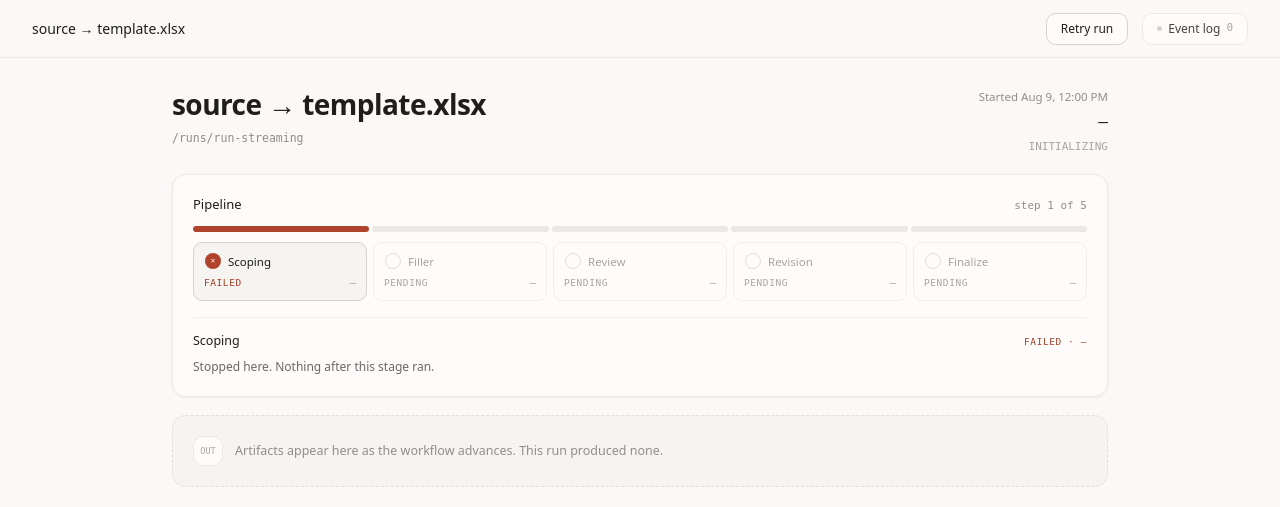
Scenario: run progress › offers Retry for a failed run and reconnects the restarted stream
expect the button "Cancel run" is not shown: met
Click the button "Retry run" at coordinates (1087, 28), box [1046, 12, 1128, 44]
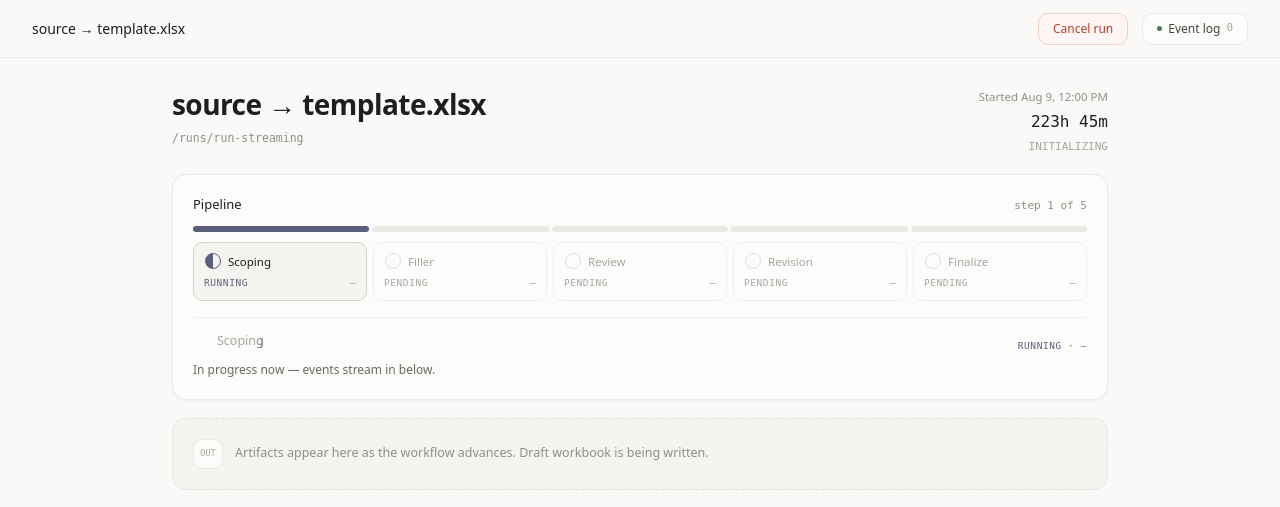
expect the button "Cancel run" is shown: met, box [1038, 12, 1128, 44]
